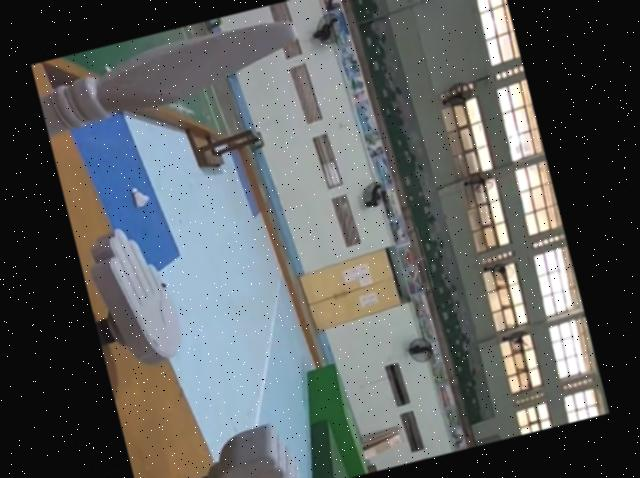Fist: (137, 419, 301, 478)
Hand: (76, 225, 194, 382)
Sph: (32, 5, 320, 149)
